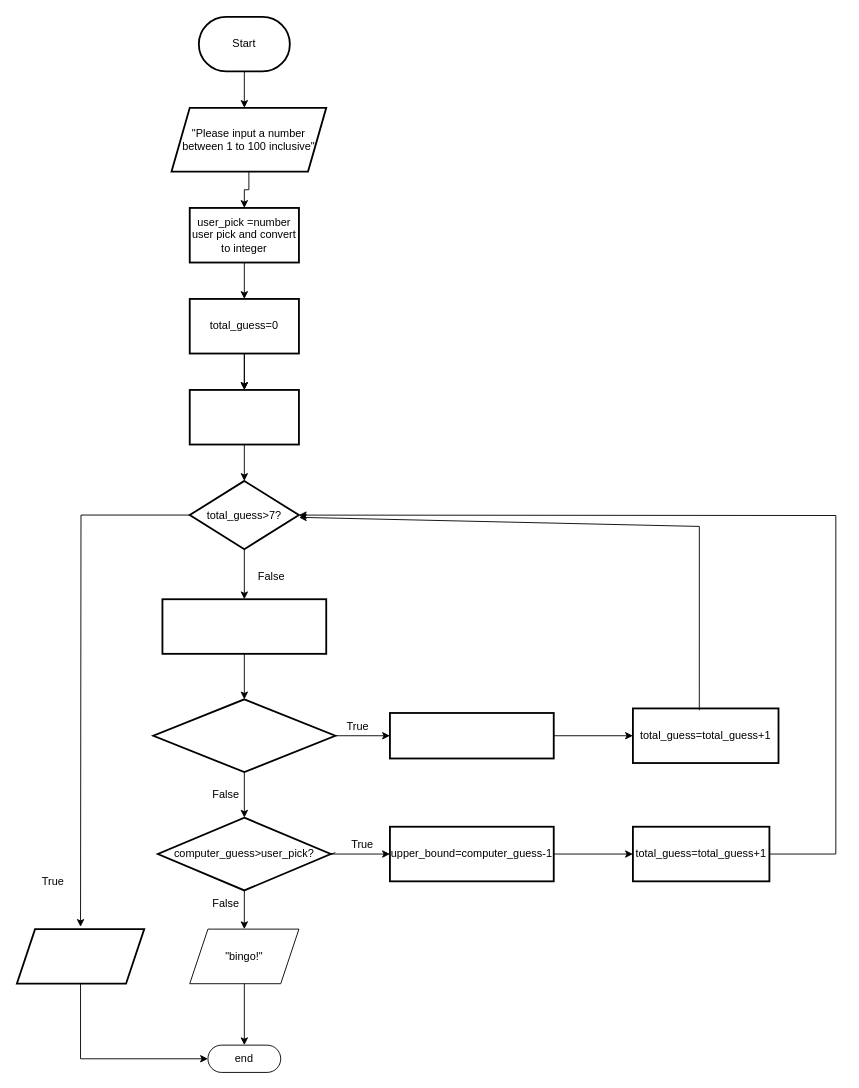
Some shapes in this 859 by 1088 pixel diagram are drawn without their labels. The shapes that lost their labels are listed below. From the top down, each one's centre as x and y in pixels, then its label:
point (243, 417): lower_bound=1 upper_bound=100
point (244, 626): computer_guess=(lower_bound+upper_bound)//2 (floor division)
point (244, 735): computer_guess<user_pick?
point (471, 735): lower_bound=computer_guess+1
point (80, 956): "Computer has lost."
